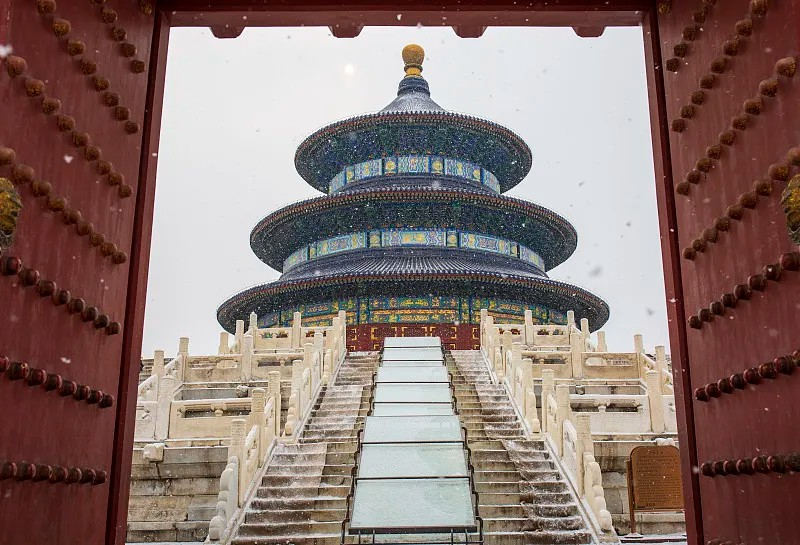Heaven: (217, 45, 610, 350)
